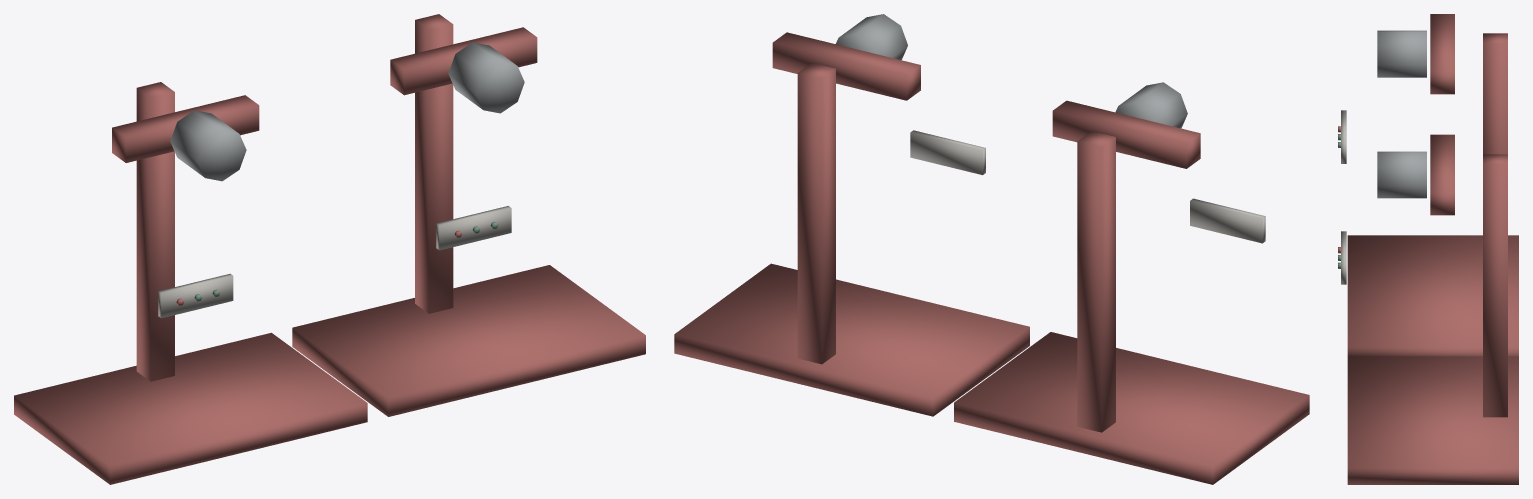
File: engine_stand__cluster.glb
3 views of the same model, side by side, from view 1: azimuth 30°, elevation 25°; view 2: azimuth 150°, elevation 25°; view 3: azimuth 270°, elevation 25° (orthographic). The views are drawn at different scales.
Parts seen in each view (by area): view 1: world; view 2: world; view 3: world.
Boxes of the visible parts, left/top/right/bottom form: world: left=14, top=14, right=645, bottom=484; world: left=674, top=14, right=1309, bottom=484; world: left=1338, top=14, right=1518, bottom=484.
Bounding box in the file's own units: 1.77 × 0.98 × 0.581.
